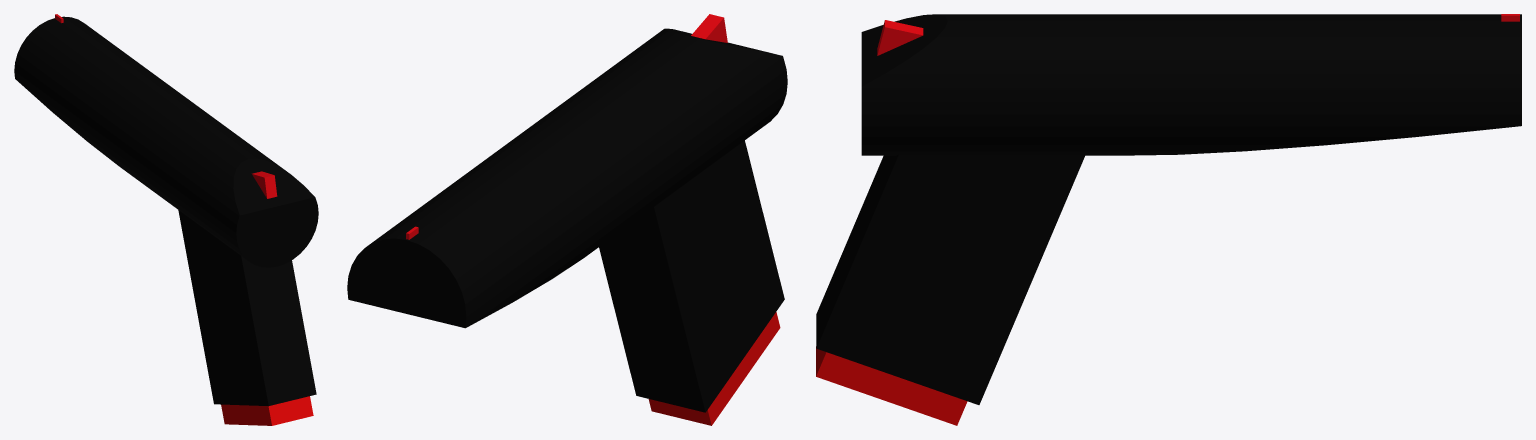
The model's file is basicgun.fbx.
3 views of the same model, side by side, from view 1: azimuth 30°, elevation 25°; view 2: azimuth 150°, elevation 25°; view 3: azimuth 270°, elevation 25° (orthographic). The views are drawn at different scales.
Parts seen in each view (by area): view 1: Cylinder, Cube, Cube.001; view 2: Cylinder, Cube, Cube.001; view 3: Cylinder, Cube, Cube.001.
Boxes of the visible parts, left/top/right/bottom form: Cylinder: left=14, top=16, right=318, bottom=267; Cube: left=178, top=210, right=316, bottom=425; Cube.001: left=252, top=171, right=277, bottom=198; Cylinder: left=347, top=28, right=787, bottom=328; Cube: left=599, top=140, right=784, bottom=425; Cube.001: left=691, top=14, right=727, bottom=42; Cylinder: left=861, top=14, right=1521, bottom=155; Cube: left=816, top=154, right=1085, bottom=425; Cube.001: left=877, top=20, right=923, bottom=55.
Size of the model in its own units: 150 by 463 by 748.
